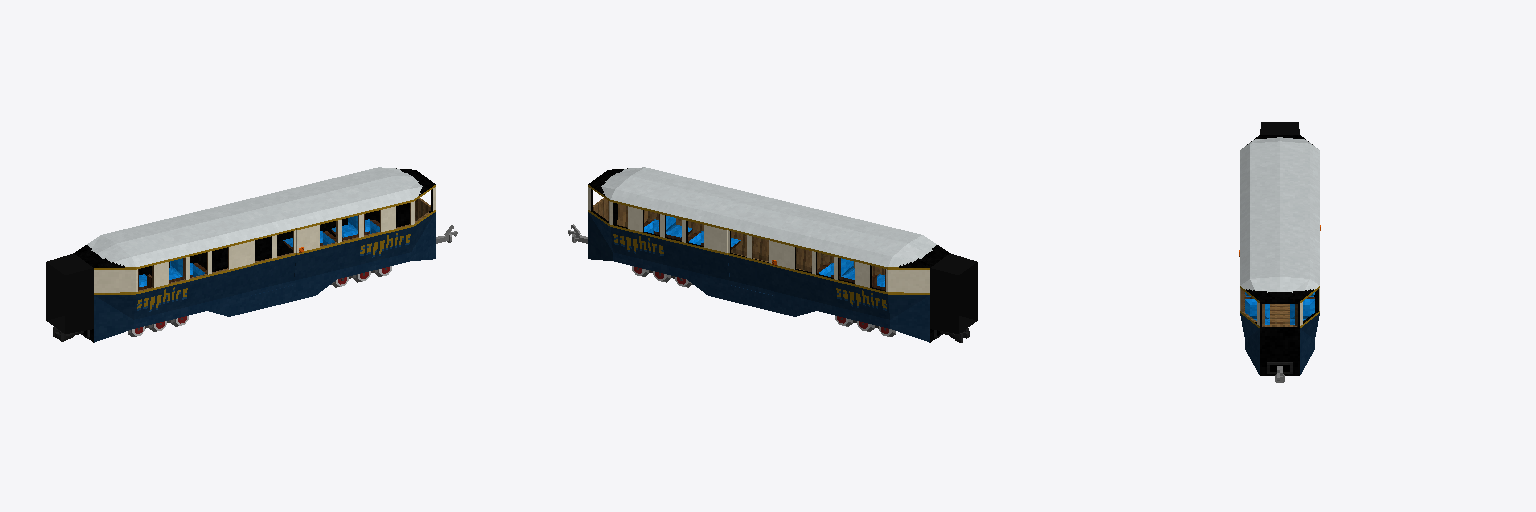
3 renders of one model, left to right at view 1: azimuth 30°, elevation 25°; view 2: azimuth 150°, elevation 25°; view 3: azimuth 270°, elevation 25°, orthographic.
Visible parts, largest first — view 1: FRAME_ext_roof, FRAME_ext_body.002, FRAME_ext_body.001, connector.001, FRAME_int_body.001, DOOR_5_CG_doorleft_NOTOUCH, DOOR_6_CG_doorleft_NOTOUCH, FRAME_int_body.002; view 2: FRAME_ext_roof, FRAME_ext_body.002, FRAME_ext_body.001, connector.001, FRAME_int_body.001, DOOR_3_CG_doorright_NOTOUCH, DOOR_4_CG_doorright_NOTOUCH, FRAME_int_body.002; view 3: FRAME_ext_roof, FRAME_ext_body.001.
Boxes of the visible parts, box(x1,y1,x2,y2) form: FRAME_ext_roof: box(74, 167, 435, 267); FRAME_ext_body.002: box(89, 239, 271, 342); FRAME_ext_body.001: box(272, 185, 435, 305); connector.001: box(46, 253, 93, 333); FRAME_int_body.001: box(259, 189, 432, 260); DOOR_5_CG_doorleft_NOTOUCH: box(251, 234, 274, 294); DOOR_6_CG_doorleft_NOTOUCH: box(272, 228, 295, 289); FRAME_int_body.002: box(138, 247, 228, 291); FRAME_ext_roof: box(588, 167, 949, 267); FRAME_ext_body.002: box(752, 239, 934, 342); FRAME_ext_body.001: box(588, 185, 751, 305); connector.001: box(930, 253, 977, 333); FRAME_int_body.001: box(591, 189, 764, 260); DOOR_3_CG_doorright_NOTOUCH: box(749, 234, 772, 294); DOOR_4_CG_doorright_NOTOUCH: box(728, 228, 751, 289); FRAME_int_body.002: box(795, 247, 885, 291); FRAME_ext_roof: box(1240, 135, 1319, 301); FRAME_ext_body.001: box(1240, 286, 1319, 375).
Bounding box in the file's own units: 11.56 × 2.56 × 2.06.
Materials: 8 (8 with a texture image).